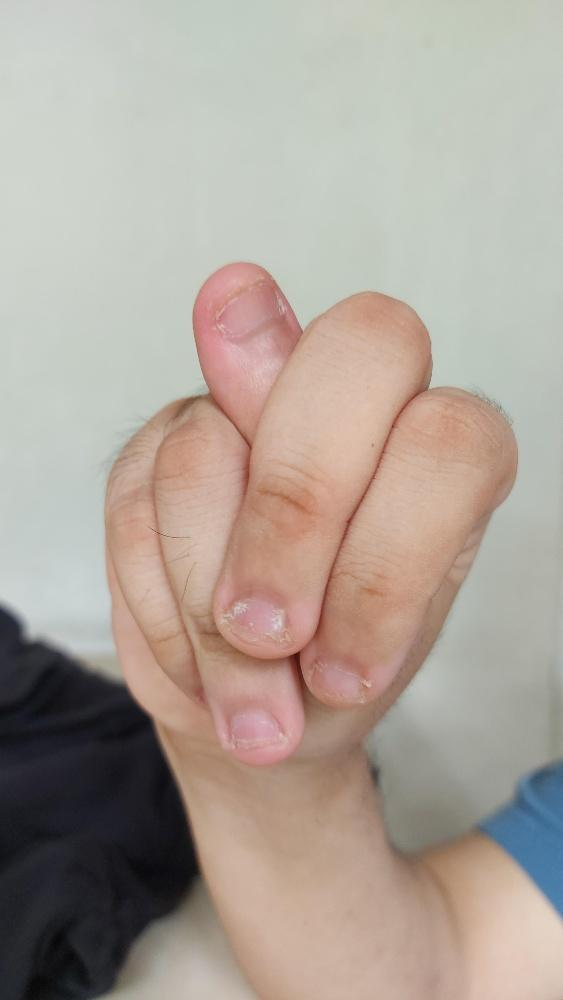n: (101, 261, 519, 765)
